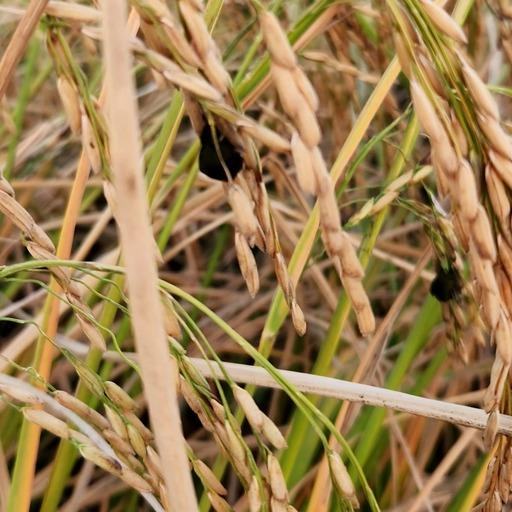Leaf_Scald: (186, 125, 258, 188), (424, 240, 470, 308)
